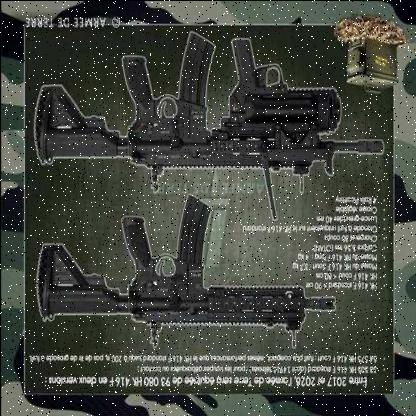rifle: (23, 194, 338, 352)
